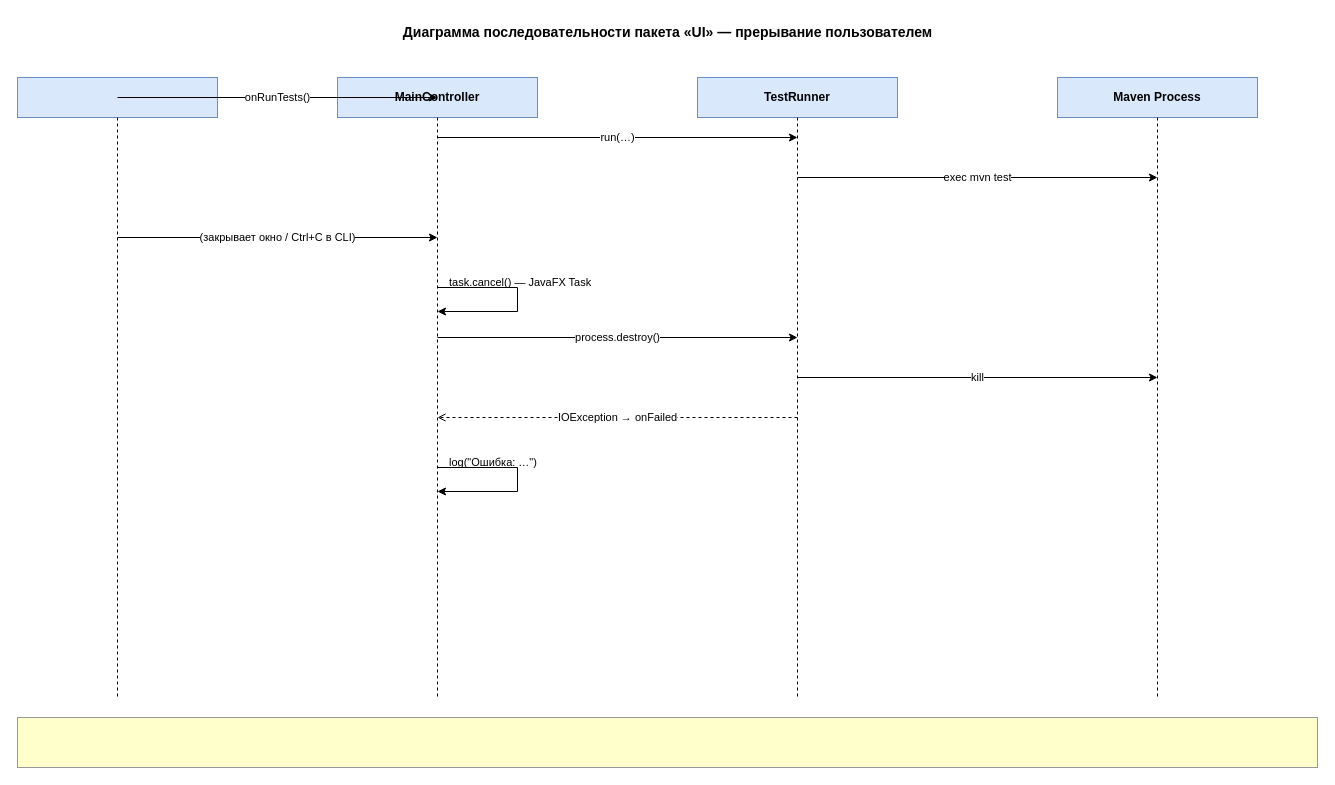
The diagram is 1335 pixels wide and 785 high, and some of its shapes have lost their labels. The shapes that lost their labels are listed below. From the top down, each one's box as (x1, y1, x2, y2) in pixels, then its label:
(16, 76, 218, 118): Пользователь
(16, 716, 1318, 768): Прерывание пользователем: задача JavaFX отменяется и Maven-процесс уничтожается.
